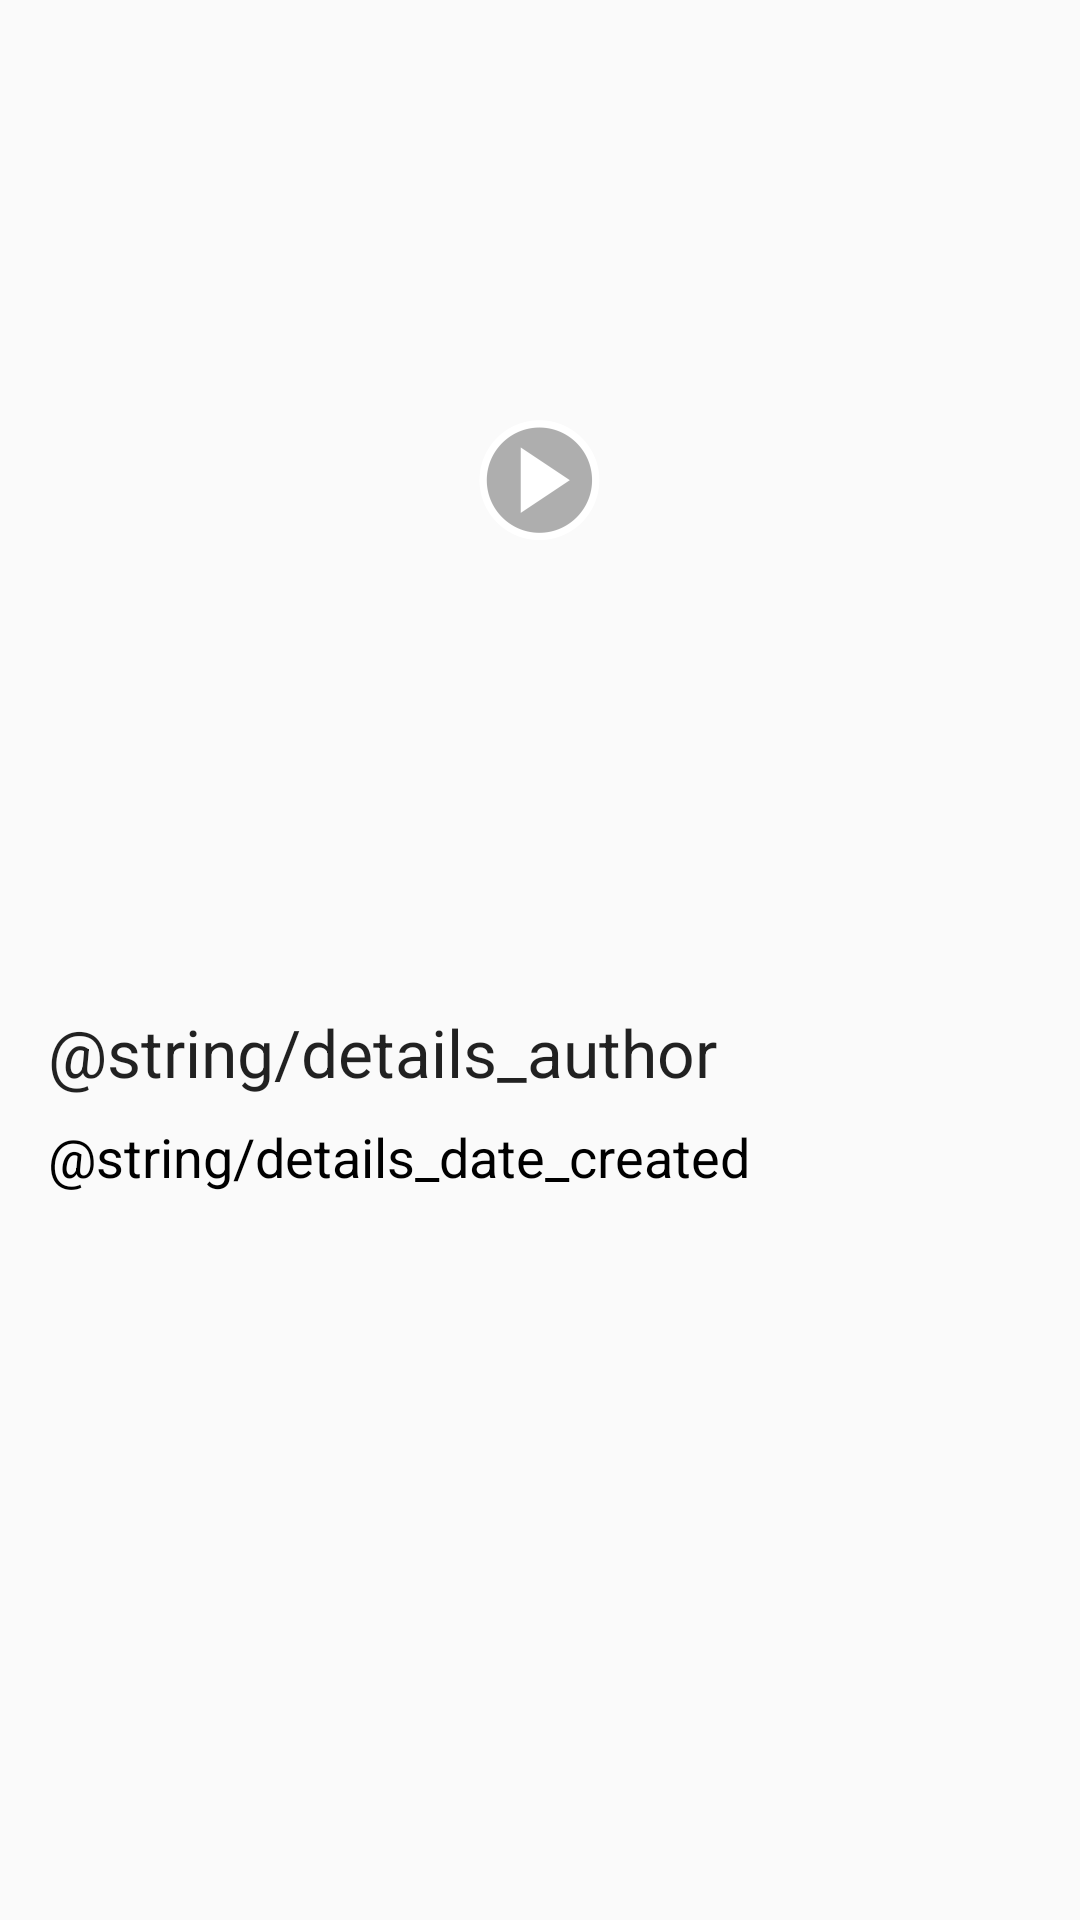

Named icons in this screenshot (1080x1920) and their bounding boxes, box(x1, y1, x2, y2):
play: box(487, 427, 592, 533)
